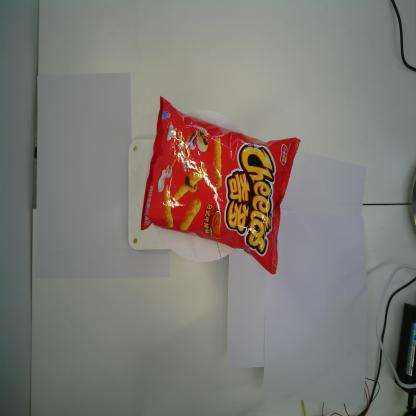Puffed Food: (141, 95, 302, 278)
